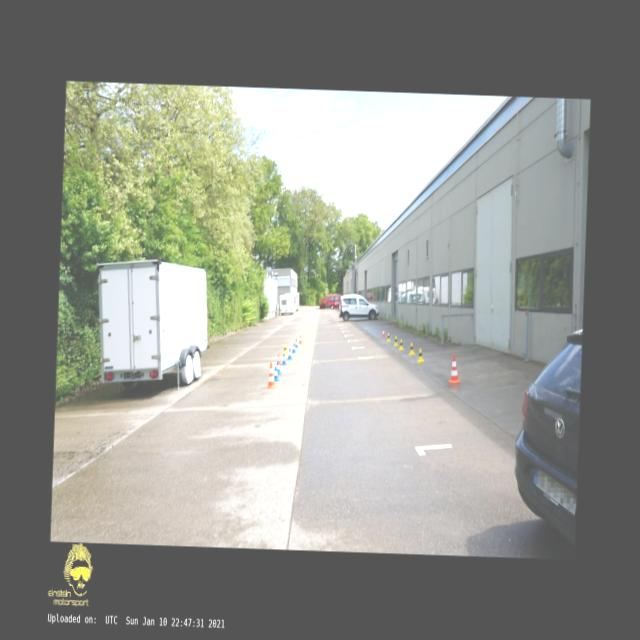blue_cone: (273, 366, 279, 381), (276, 360, 280, 374), (291, 343, 296, 353), (282, 353, 286, 365), (288, 348, 292, 359), (294, 338, 298, 348)
large_orange_cone: (448, 353, 461, 383), (266, 362, 276, 388)
orange_cone: (276, 353, 280, 365), (381, 328, 385, 337), (299, 336, 302, 344)
yellow_cone: (416, 347, 424, 362), (408, 340, 415, 354), (392, 334, 398, 346), (398, 338, 404, 350), (283, 344, 287, 354), (386, 332, 390, 342)
